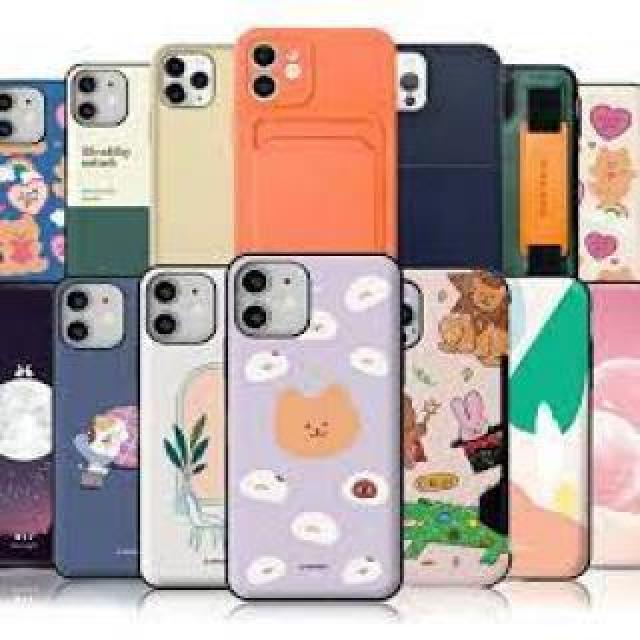smart phone: (232, 253, 405, 605), (238, 17, 400, 266), (398, 272, 510, 595), (56, 280, 146, 602), (510, 270, 587, 590), (403, 38, 505, 274), (150, 274, 223, 598), (158, 20, 234, 263), (73, 56, 150, 276), (0, 280, 55, 582), (0, 56, 68, 284), (590, 302, 640, 580), (518, 58, 565, 265)
